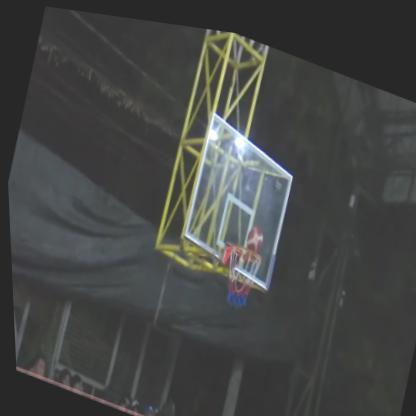basketball: (241, 218, 265, 255)
rim: (210, 228, 265, 317)
